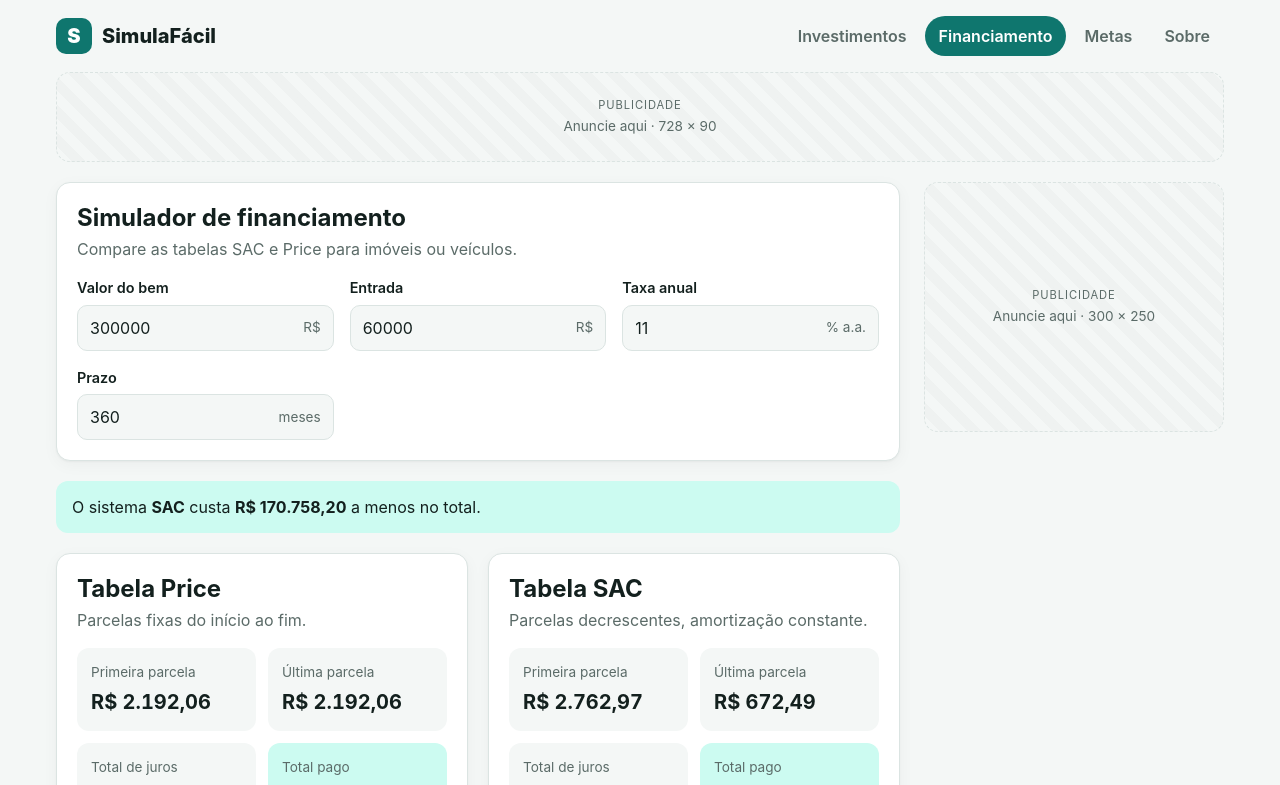
Simulador de financiamento › com juros zero os dois sistemas empatam e Price é exibido
Replace the text in the field labelled "Taxa anual" with "0" at {"x": 718, "y": 328}, box [623,306,814,350]
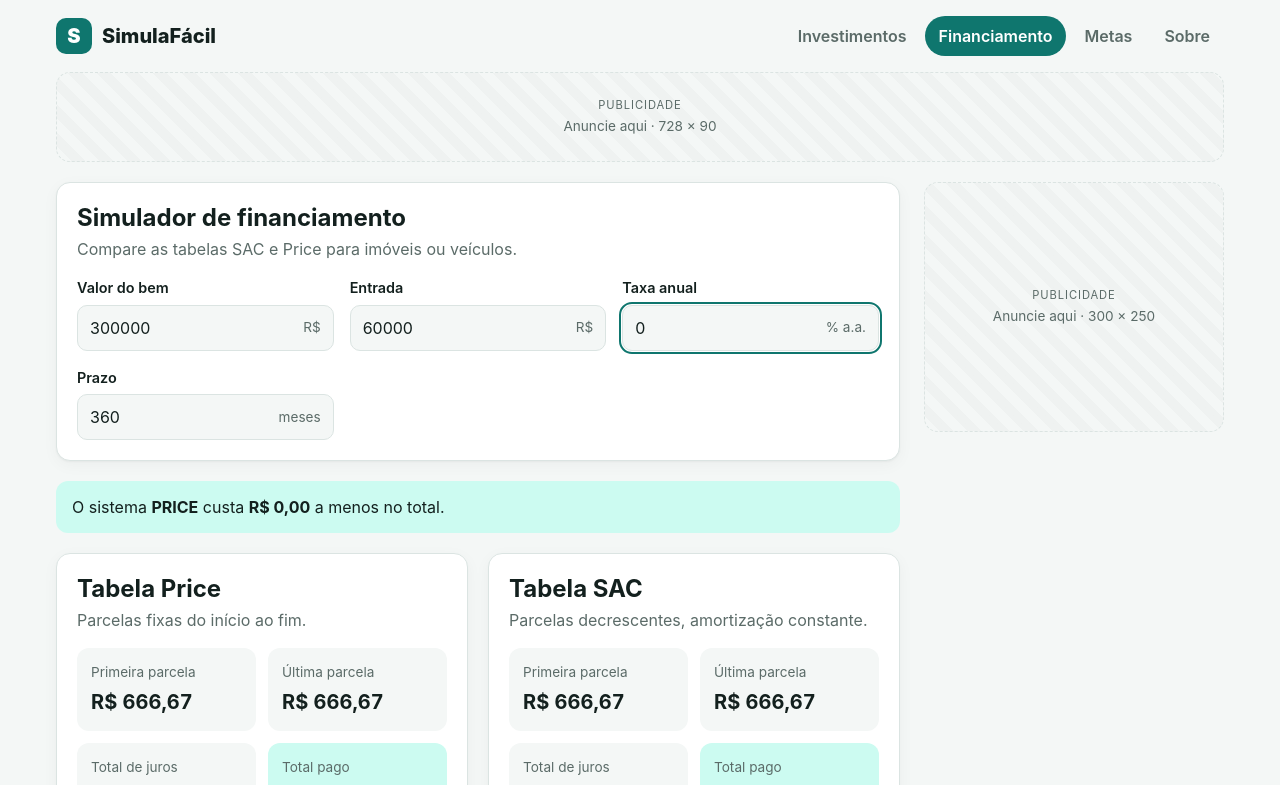
Result: the element with test id "fin-verdict" shows "O sistema PRICE custa R$ 0,00 a menos" at [56,481,900,533]
